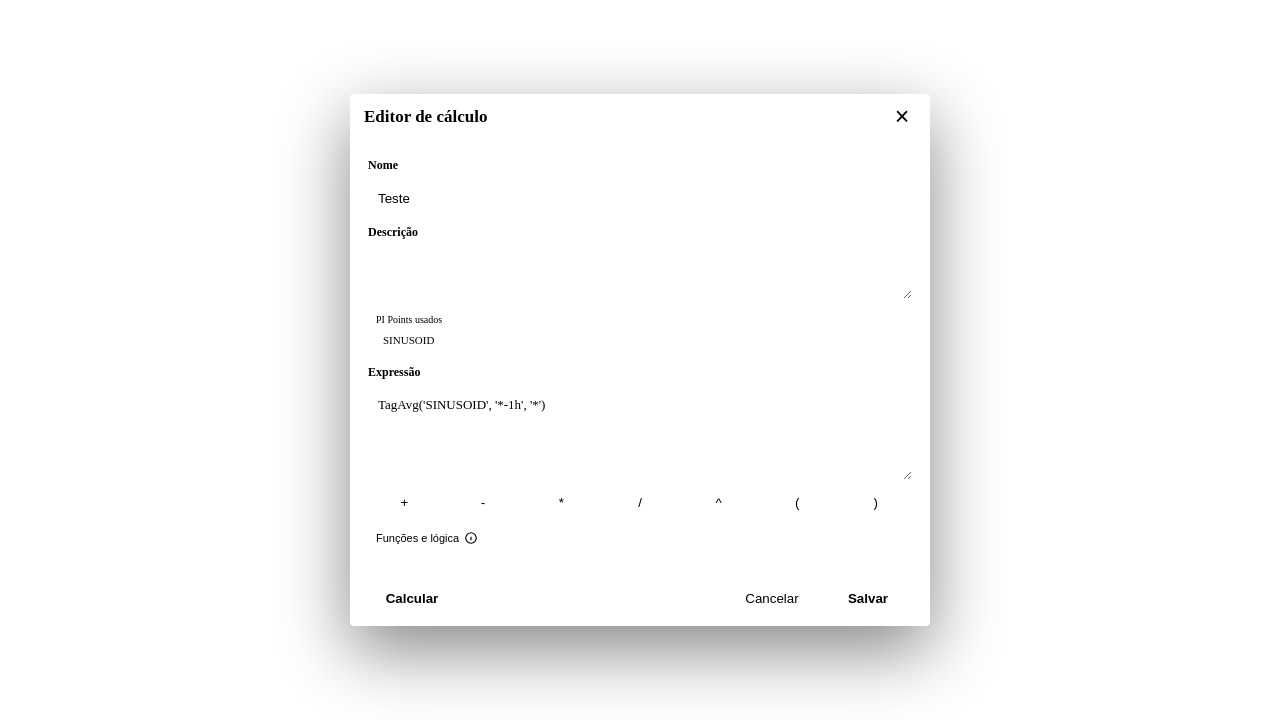
não faz fallback local para função parcial quando o controller está indisponível
Click the button with test id "calculation-editor-execute": (412, 598) [368,582,456,614]
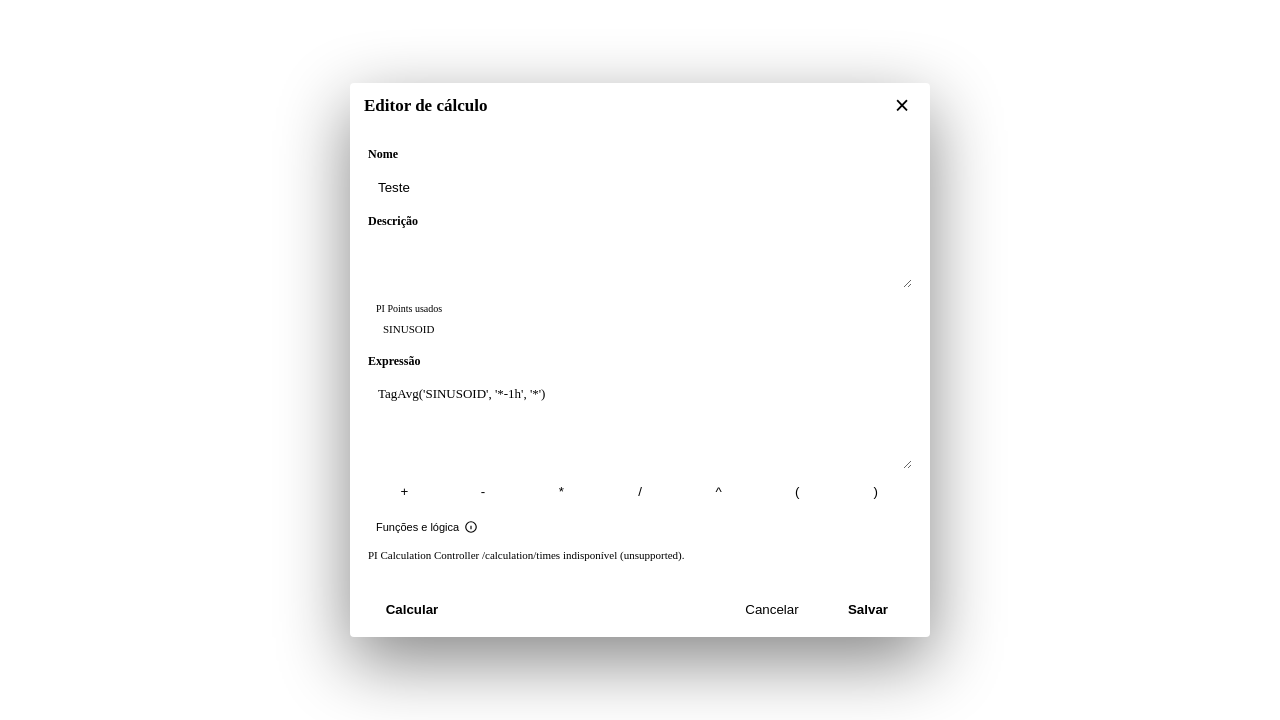
Expected: the message shows "/calculation/times indisponível", [368,549,684,561]
